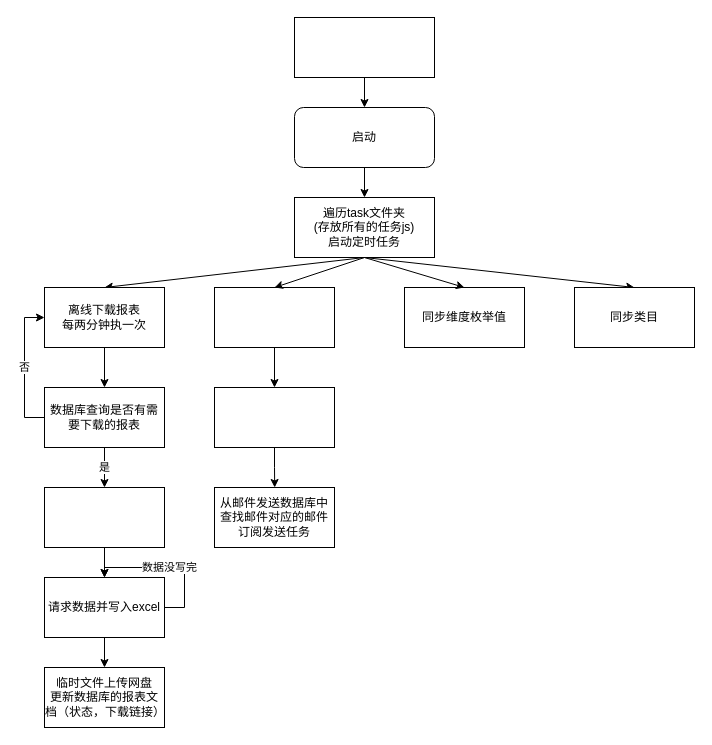
This 712x745 diagram has some shape labels left out. The shapes that lost their labels are listed below. From the top down, each one's centre as x and y in pixels, then its label:
[364,47]: pm2 控制schedule 和接口服务分开
[274,317]: 邮件发送 每两分钟执行一次
[274,417]: 数据库查询是否有待处理的邮件订阅任务
[104,517]: 生成excel实例 作为临时文件 用于写入数据
